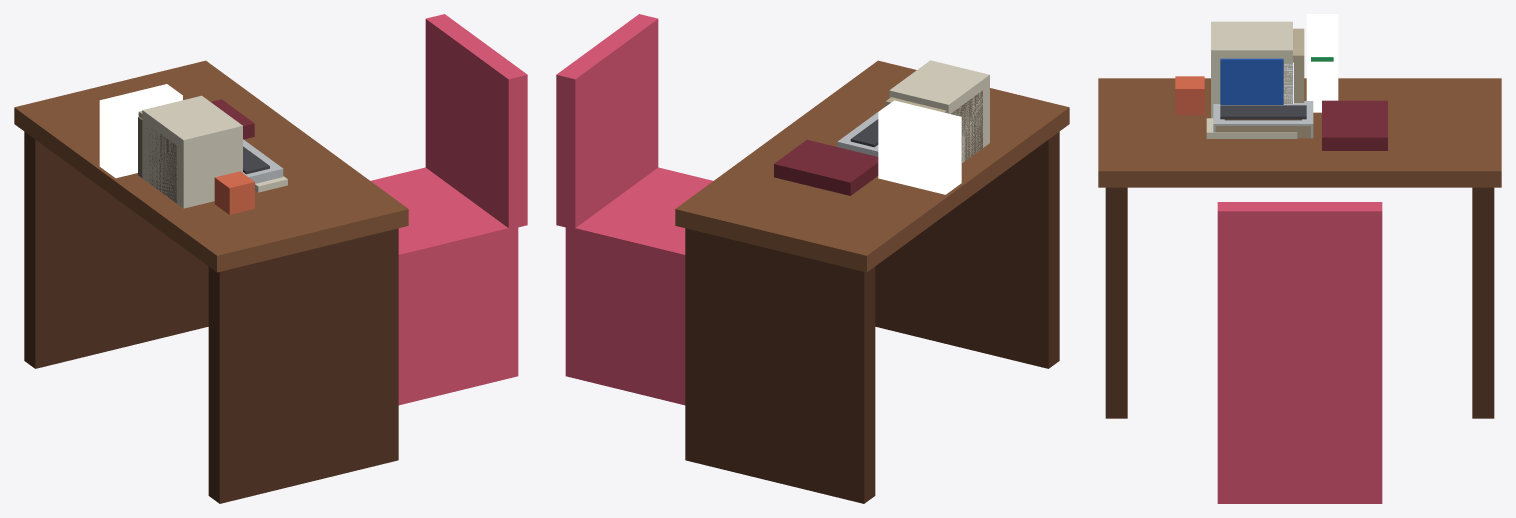
The model's file is desk.glb.
3 views of the same model, side by side, from view 1: azimuth 30°, elevation 25°; view 2: azimuth 150°, elevation 25°; view 3: azimuth 270°, elevation 25° (orthographic).
Visible parts, largest first — view 1: Box2, Box1, Box3, Box6, Box7, Box9, Box11, Box5, Box19, Box17; view 2: Box3, Box1, Box2, Box6, Box7, Box11, Box9, Box4, Box19, Box17; view 3: Box1, Box7, Box6, Box2, Box3, Box9, Box4, Box10, Box11, Box18, Box5, Box17 (+3 smaller).
Boxes of the visible parts, x1,y1,x2,y2 form: Box2: (208, 228, 398, 503); Box1: (14, 60, 408, 272); Box3: (24, 131, 208, 368); Box6: (371, 167, 518, 405); Box7: (425, 14, 527, 229); Box9: (142, 95, 242, 208); Box11: (99, 84, 182, 178); Box5: (214, 171, 254, 214); Box19: (138, 116, 176, 202); Box17: (243, 139, 283, 183); Box3: (685, 228, 875, 503); Box1: (675, 60, 1069, 272); Box2: (875, 131, 1059, 368); Box6: (565, 167, 712, 405); Box7: (556, 14, 658, 229); Box11: (878, 100, 961, 194); Box9: (889, 60, 989, 162); Box4: (774, 139, 878, 195); Box19: (951, 90, 982, 163); Box17: (837, 106, 885, 156); Box1: (1098, 78, 1501, 187); Box7: (1217, 202, 1382, 360); Box6: (1217, 361, 1382, 503); Box2: (1105, 187, 1127, 418); Box3: (1472, 187, 1494, 418); Box9: (1211, 21, 1292, 118); Box4: (1322, 100, 1387, 150); Box10: (1220, 58, 1283, 104); Box11: (1306, 14, 1338, 112); Box18: (1220, 105, 1306, 119); Box5: (1175, 76, 1204, 115); Box17: (1213, 101, 1313, 138).
Bounding box in the file's own units: 1.16 × 0.9596 × 1.1.
